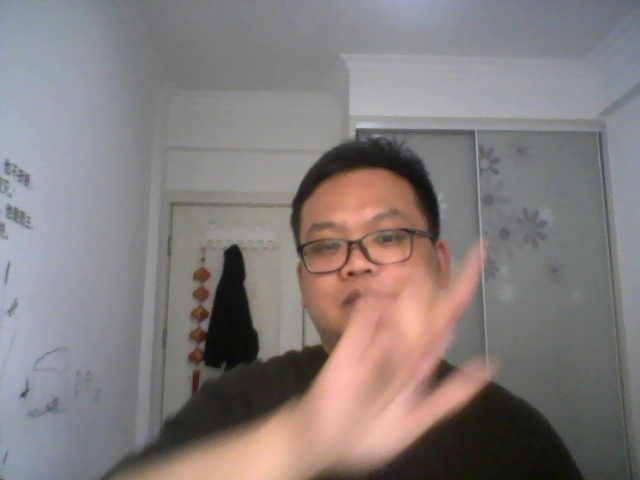I Love You: (299, 236, 504, 475)
